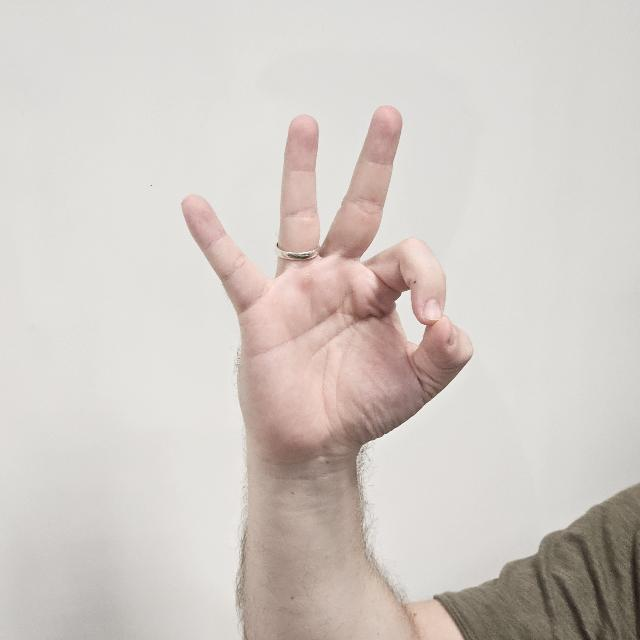Bolinha: (175, 106, 491, 477)
